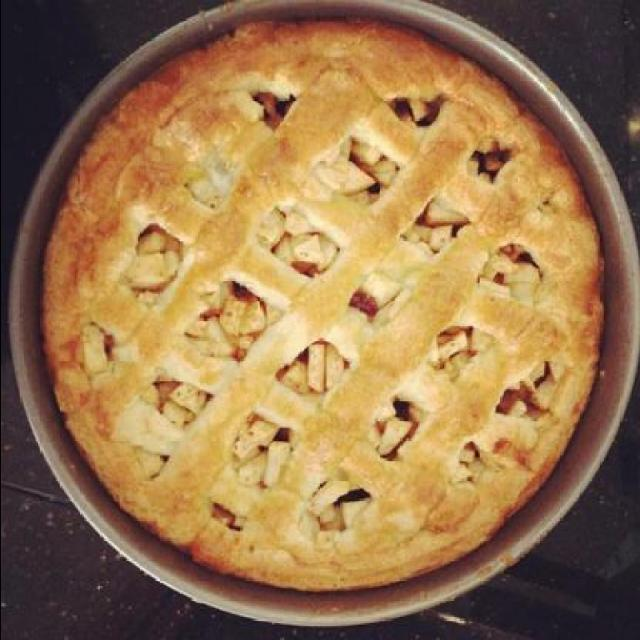Apple: (67, 23, 604, 586)
